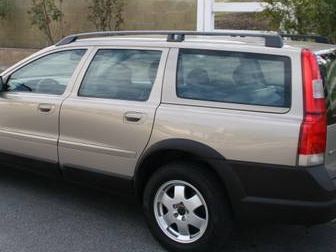volvo: (1, 16, 336, 250)
